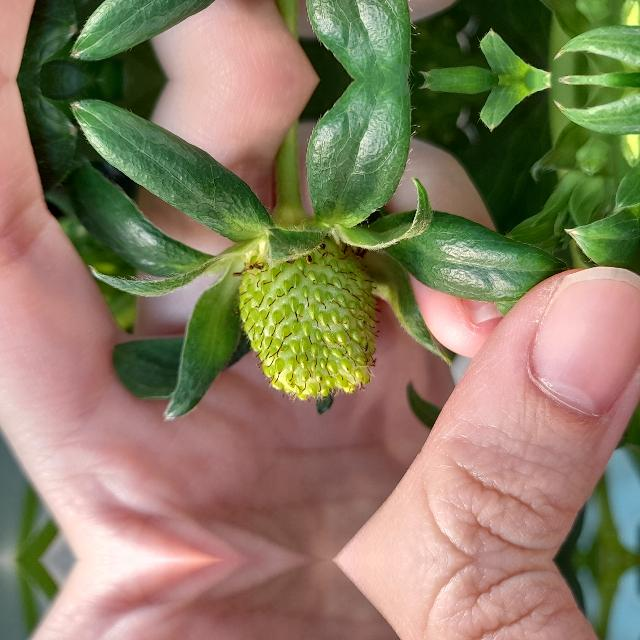Health_25: (232, 237, 381, 403)
